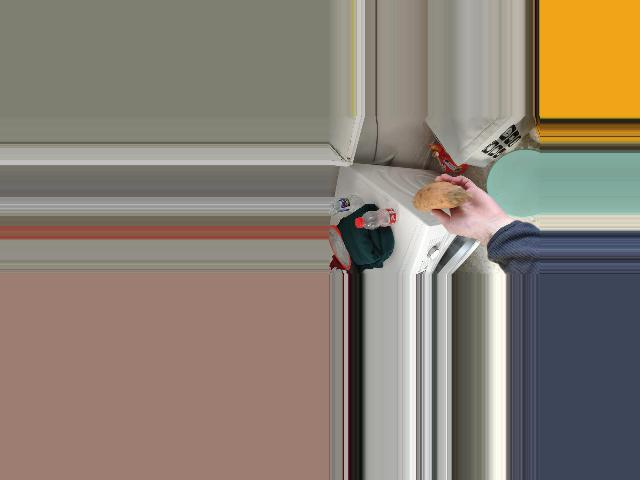sweet_potato: (409, 185, 475, 214)
